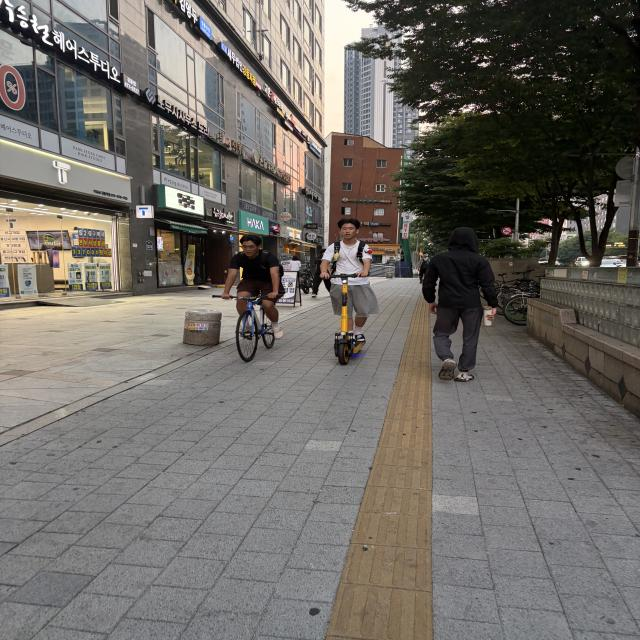bicycle: (215, 226, 290, 372)
